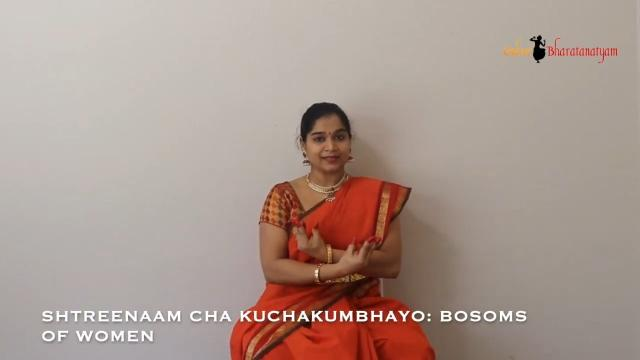padamkosh: (336, 235, 396, 291), (284, 207, 332, 262)
